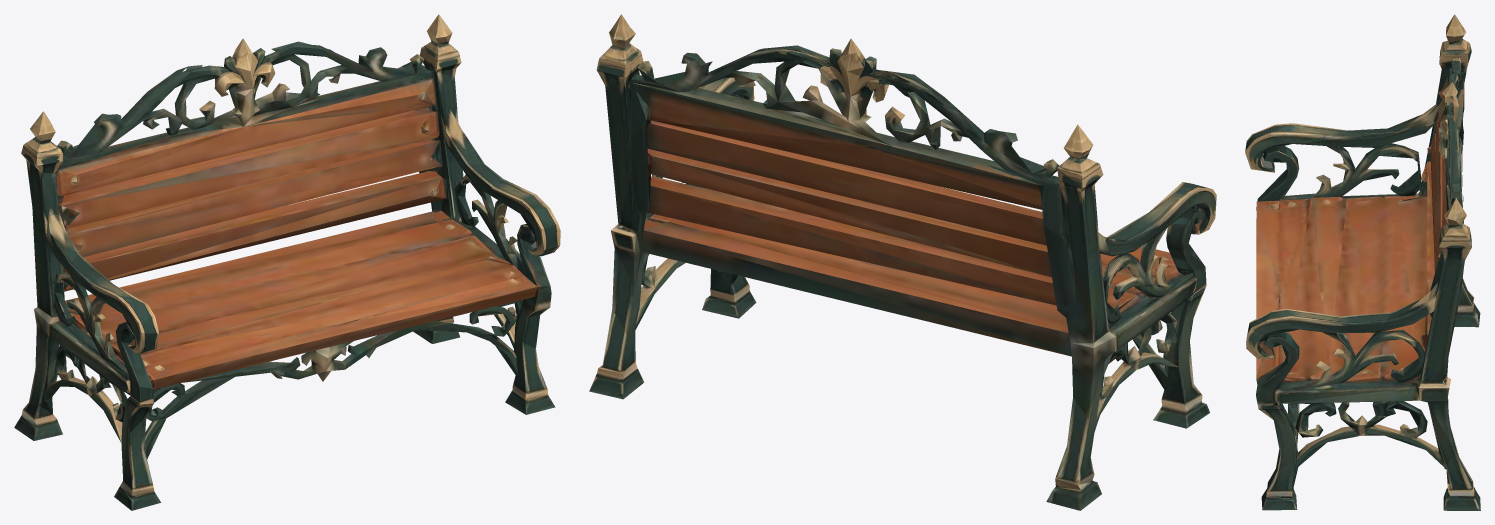
The model's file is town_bench.glb.
3 renders of one model, left to right at view 1: azimuth 30°, elevation 25°; view 2: azimuth 150°, elevation 25°; view 3: azimuth 270°, elevation 25°, orthographic. The views are drawn at different scales.
Parts seen in each view (by area): view 1: output_unwrapped; view 2: output_unwrapped; view 3: output_unwrapped.
Boxes of the visible parts, x1,y1,x2,y2 form: output_unwrapped: (14,14,560,510); output_unwrapped: (589,14,1216,510); output_unwrapped: (1245,14,1480,510).
Bounding box in the file's own units: 1.89 × 1.47 × 0.9514.
Materials: 1 (1 with a texture image).
